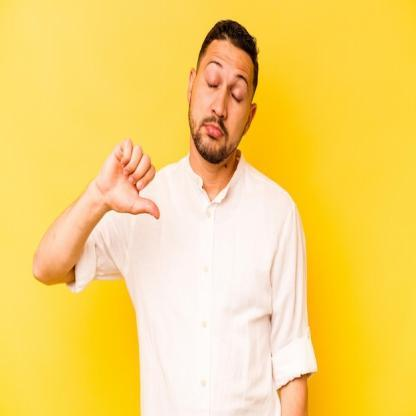thumb_down: (90, 135, 162, 224)
